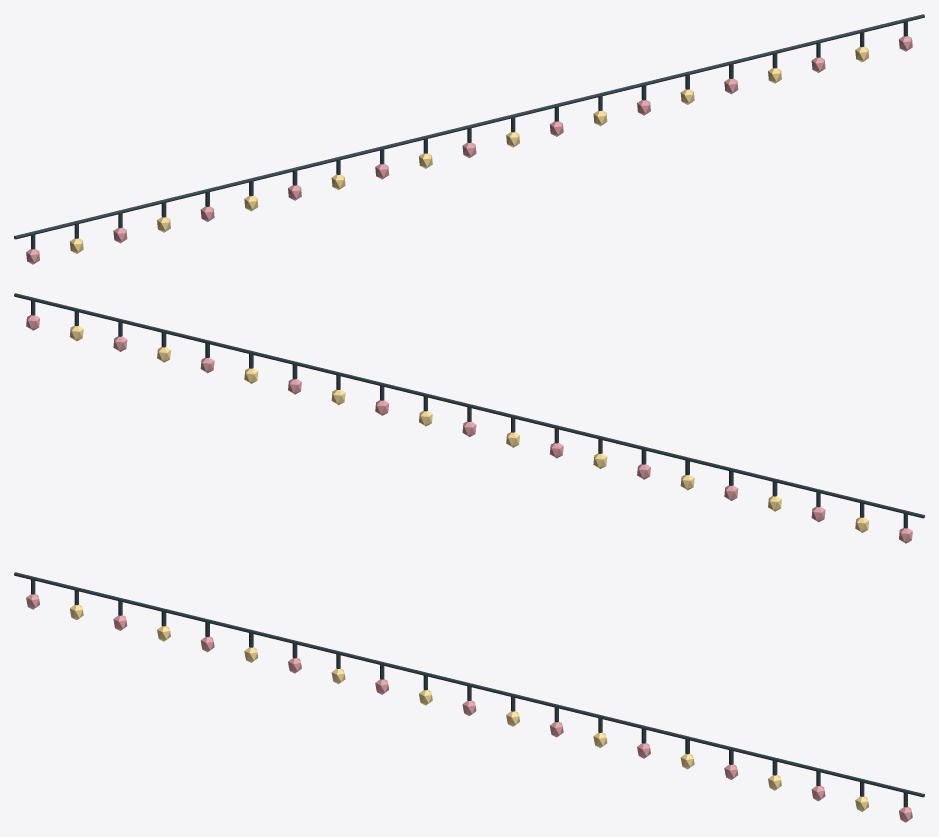
File: string_lights.glb
3 views of the same model, one above another, from view 1: azimuth 30°, elevation 25°; view 2: azimuth 150°, elevation 25°; view 3: azimuth 330°, elevation 25° (orthographic).
Visible parts, largest first — view 1: cord; view 2: cord; view 3: cord.
Part boxes in pixels (x1,y1,x2,y2): cord: [14, 14, 924, 239]; cord: [14, 293, 924, 518]; cord: [14, 572, 924, 797].
Size of the model in its own units: 10 by 0.348 by 0.1276.
